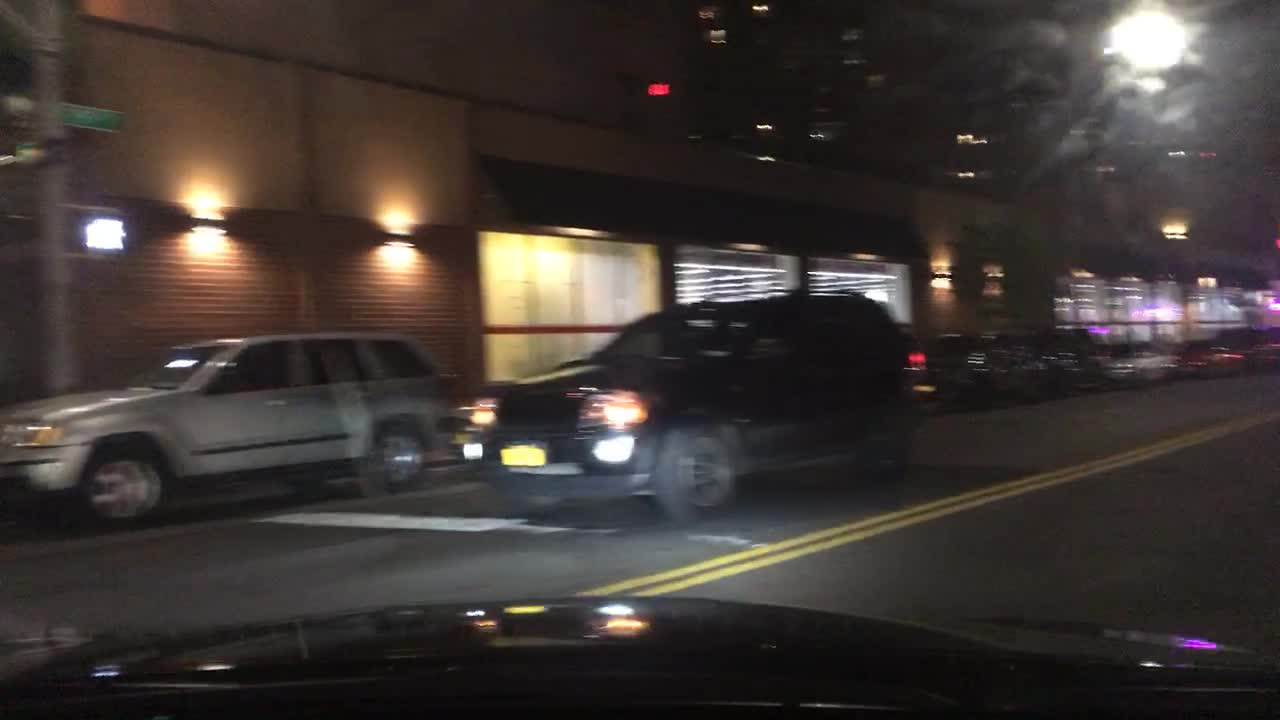car: (459, 288, 909, 525), (0, 329, 451, 531), (907, 329, 1020, 413), (1019, 329, 1099, 396), (1099, 341, 1181, 389), (1178, 338, 1247, 376), (1246, 336, 1279, 370)
traffic sign: (60, 102, 125, 135), (17, 144, 45, 164)
